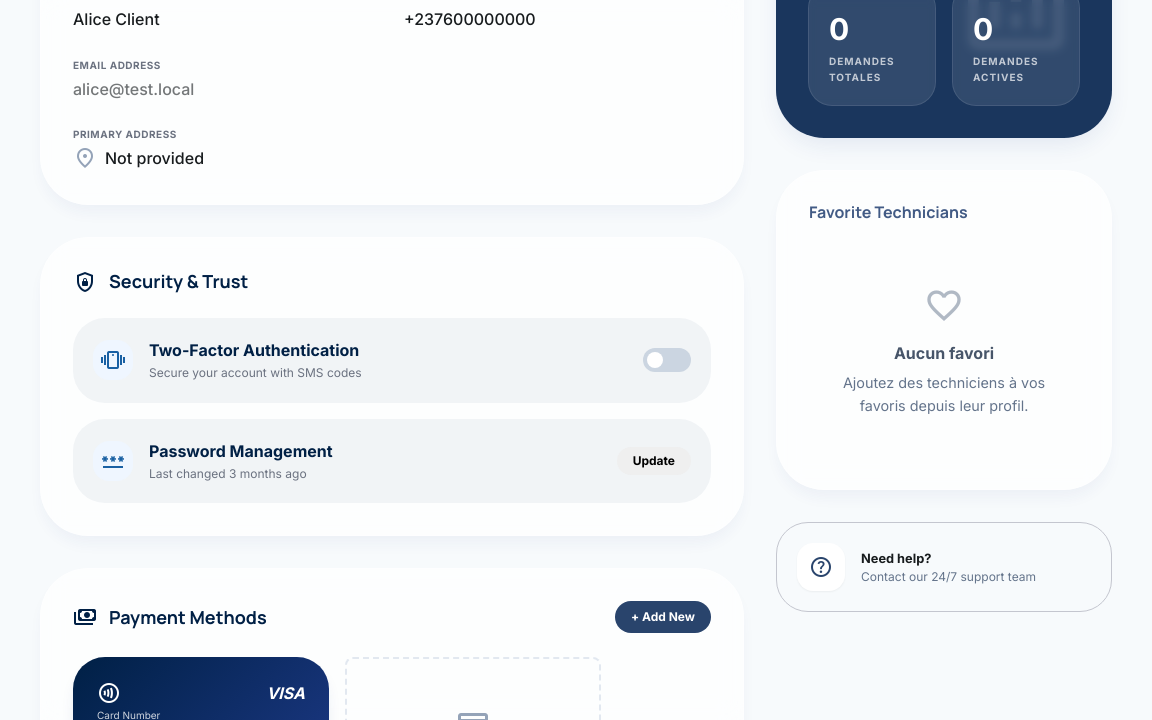
it: ProfileSettings › signale une génération de secret impossible
(page scrolled)
Click the element with class "ps-toggle" at point(667, 360), box [643, 348, 691, 372]
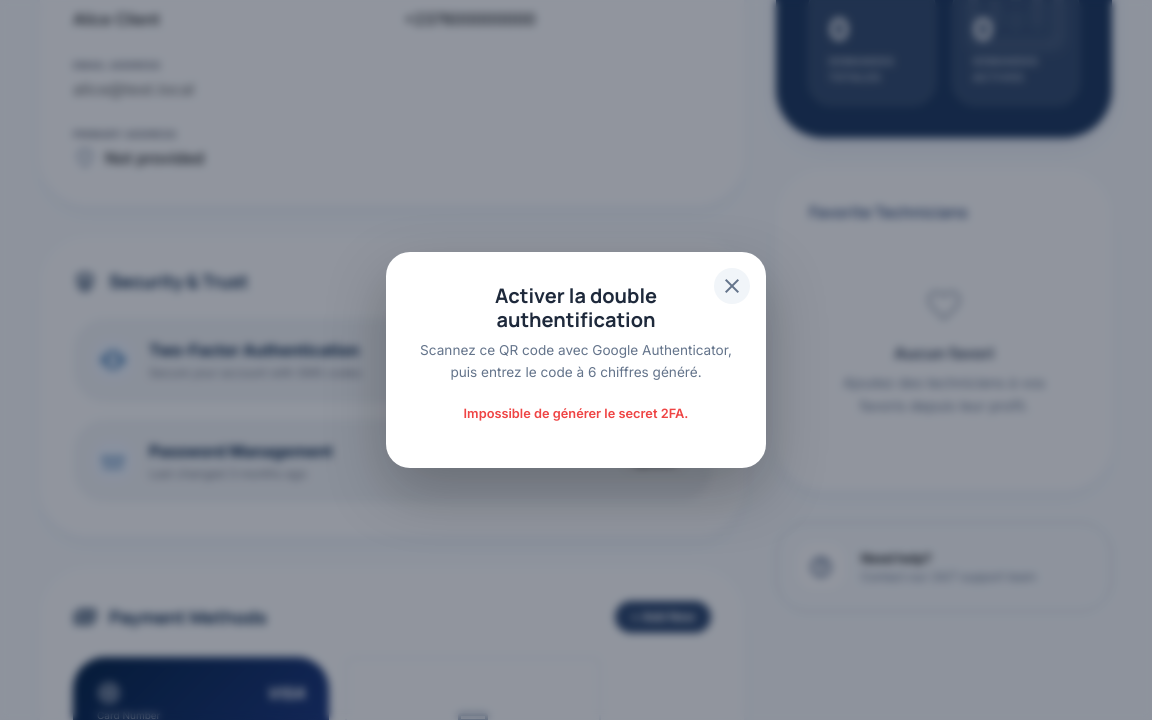
Expected: the text "Impossible de générer le secret 2FA." is shown, [464, 406, 688, 420]
